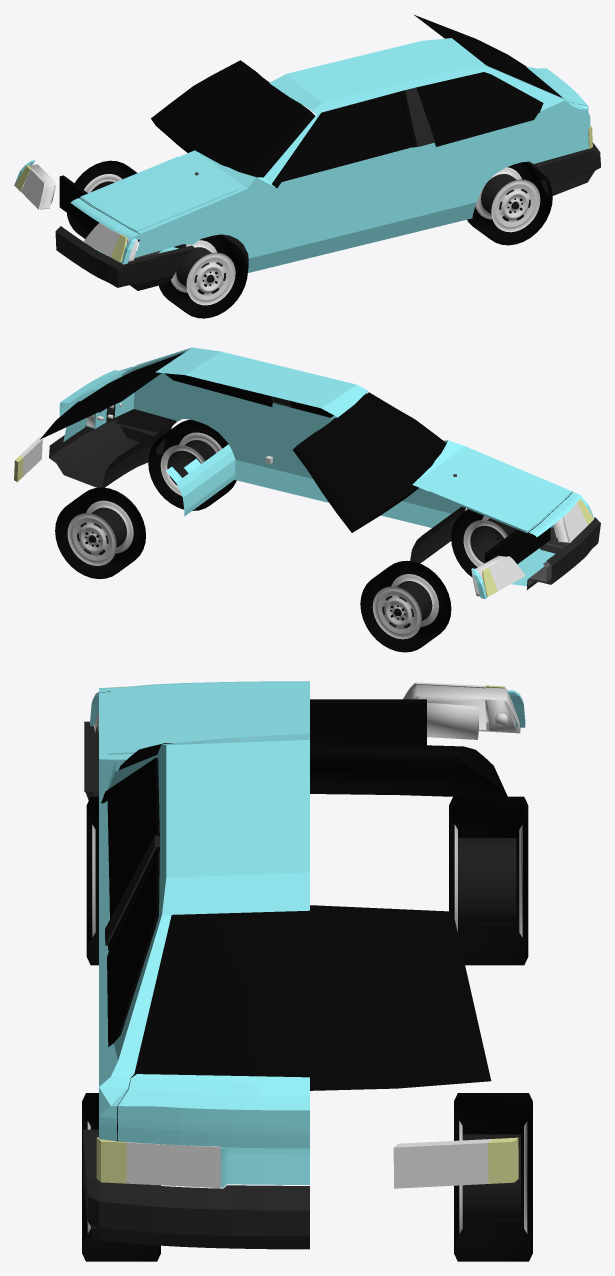
File: carTwo.glb
3 renders of one model, top to bottom at view 1: azimuth 30°, elevation 25°; view 2: azimuth 150°, elevation 25°; view 3: azimuth 270°, elevation 25°, orthographic. The views are drawn at different scales.
Visible parts, largest first — view 1: Плоскость, Куб.003, Плоскость.003, Цилиндр.003, Цилиндр.012, Плоскость.006, Плоскость.018, Плоскость.017, Цилиндр.005, Куб.001, Плоскость.007, Плоскость.011 (+1 smaller); view 2: Плоскость, Куб.003, Цилиндр.005, Цилиндр.006, Плоскость.003, Плоскость.017, Цилиндр.012, Цилиндр.003, Плоскость.018, Плоскость.006, Куб.001, Плоскость.011 (+2 smaller); view 3: Плоскость, Плоскость.018, Плоскость.017, Цилиндр.005, Плоскость.003, Цилиндр.006, Куб.003, Плоскость.015, Куб.001, Плоскость.014, Плоскость.009, Цилиндр.012 (+2 smaller).
Part boxes in pixels (bbox=[...]): Плоскость: bbox=[70, 38, 590, 272]; Куб.003: bbox=[151, 60, 315, 177]; Плоскость.003: bbox=[80, 156, 238, 231]; Цилиндр.003: bbox=[159, 234, 247, 318]; Цилиндр.012: bbox=[467, 162, 552, 245]; Плоскость.006: bbox=[55, 226, 195, 290]; Плоскость.018: bbox=[414, 15, 561, 97]; Плоскость.017: bbox=[535, 142, 600, 195]; Цилиндр.005: bbox=[67, 160, 139, 241]; Куб.001: bbox=[59, 175, 99, 230]; Плоскость.007: bbox=[83, 223, 121, 256]; Плоскость.011: bbox=[21, 169, 45, 209]; Плоскость: bbox=[59, 347, 582, 586]; Куб.003: bbox=[293, 392, 446, 532]; Цилиндр.005: bbox=[360, 560, 451, 652]; Цилиндр.006: bbox=[55, 487, 145, 578]; Плоскость.003: bbox=[429, 450, 569, 532]; Плоскость.017: bbox=[49, 409, 176, 487]; Цилиндр.012: bbox=[148, 419, 236, 510]; Цилиндр.003: bbox=[451, 509, 517, 576]; Плоскость.018: bbox=[40, 352, 184, 439]; Плоскость.006: bbox=[527, 517, 600, 589]; Куб.001: bbox=[485, 527, 550, 564]; Плоскость.011: bbox=[487, 556, 525, 590]; Плоскость: bbox=[99, 681, 309, 1187]; Плоскость.018: bbox=[134, 905, 491, 1090]; Плоскость.017: bbox=[83, 1129, 309, 1249]; Цилиндр.005: bbox=[449, 796, 528, 965]; Плоскость.003: bbox=[108, 684, 309, 754]; Цилиндр.006: bbox=[454, 1093, 532, 1261]; Куб.003: bbox=[119, 741, 508, 798]; Плоскость.015: bbox=[393, 1137, 518, 1188]; Куб.001: bbox=[310, 699, 426, 745]; Плоскость.014: bbox=[96, 1137, 220, 1188]; Плоскость.009: bbox=[406, 684, 520, 739]; Цилиндр.012: bbox=[82, 1093, 160, 1261].
Size of the model in its own units: 6.22 by 2.03 by 2.42.
